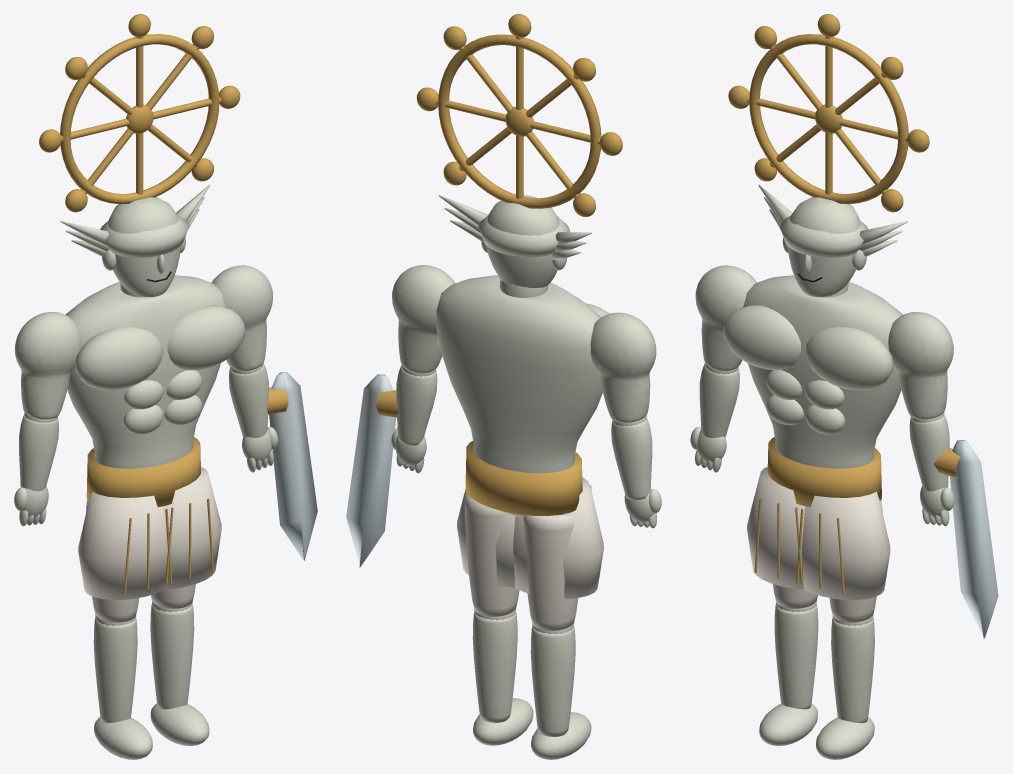
The model's file is mahoraga.glb.
The picture shows the model from 3 angles, left to right: view 1: azimuth 30°, elevation 25°; view 2: azimuth 150°, elevation 25°; view 3: azimuth 330°, elevation 25°; orthographic projection. The views are drawn at different scales.
Visible parts, largest first — view 1: abdominal, cloth pleat, eight handled wheel, blade mount, brow carapace, foot.001, foot, deltoid.004, deltoid.005, elbow overlap.004, trouser thigh.004, trouser thigh.005; view 2: abdominal, eight handled wheel, cloth pleat, blade mount, brow carapace, foot, foot.001, deltoid.004, trouser thigh.004, deltoid.005, trouser thigh.005, elbow overlap.004; view 3: abdominal, cloth pleat, eight handled wheel, blade mount, brow carapace, foot, foot.001, deltoid.005, deltoid.004, elbow overlap.004, trouser thigh.005, trouser thigh.004.
Part boxes in pixels (x1=…): abdominal: x1=65, y1=275, x2=245, y2=468; cloth pleat: x1=78, y1=437, x2=221, y2=599; eight handled wheel: x1=39, y1=14, x2=240, y2=212; blade mount: x1=229, y1=363, x2=317, y2=560; brow carapace: x1=60, y1=184, x2=210, y2=297; foot.001: x1=150, y1=601, x2=209, y2=745; foot: x1=93, y1=614, x2=152, y2=759; deltoid.004: x1=15, y1=312, x2=80, y2=419; deltoid.005: x1=211, y1=265, x2=272, y2=370; elbow overlap.004: x1=14, y1=412, x2=58, y2=526; trouser thigh.004: x1=86, y1=500, x2=139, y2=622; trouser thigh.005: x1=150, y1=584, x2=195, y2=608; abdominal: x1=436, y1=275, x2=609, y2=473; eight handled wheel: x1=416, y1=14, x2=622, y2=216; cloth pleat: x1=457, y1=441, x2=603, y2=598; blade mount: x1=346, y1=365, x2=437, y2=567; brow carapace: x1=439, y1=195, x2=591, y2=287; foot: x1=530, y1=622, x2=591, y2=759; foot.001: x1=472, y1=608, x2=533, y2=745; deltoid.004: x1=590, y1=312, x2=656, y2=422; trouser thigh.004: x1=523, y1=515, x2=578, y2=630; deltoid.005: x1=392, y1=265, x2=455, y2=373; trouser thigh.005: x1=465, y1=492, x2=519, y2=616; elbow overlap.004: x1=611, y1=415, x2=661, y2=528; abdominal: x1=723, y1=275, x2=902, y2=468; cloth pleat: x1=747, y1=437, x2=890, y2=599; eight handled wheel: x1=728, y1=14, x2=929, y2=212; blade mount: x1=909, y1=412, x2=998, y2=638; brow carapace: x1=758, y1=184, x2=907, y2=297; foot: x1=759, y1=600, x2=818, y2=745; foot.001: x1=816, y1=614, x2=874, y2=759; deltoid.005: x1=888, y1=312, x2=953, y2=419; deltoid.004: x1=695, y1=265, x2=756, y2=370; elbow overlap.004: x1=690, y1=363, x2=739, y2=472; trouser thigh.005: x1=829, y1=500, x2=882, y2=622; trouser thigh.004: x1=773, y1=584, x2=817, y2=608.
Size of the model in its own units: 1.02 by 2.32 by 0.3007.
